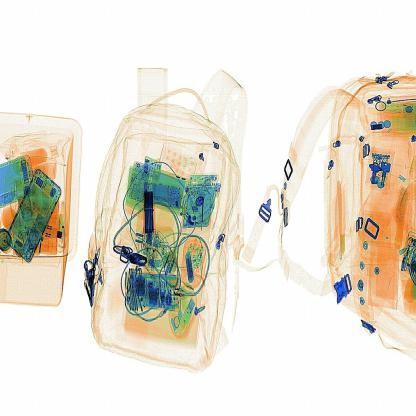scissors: (140, 182, 168, 241)
